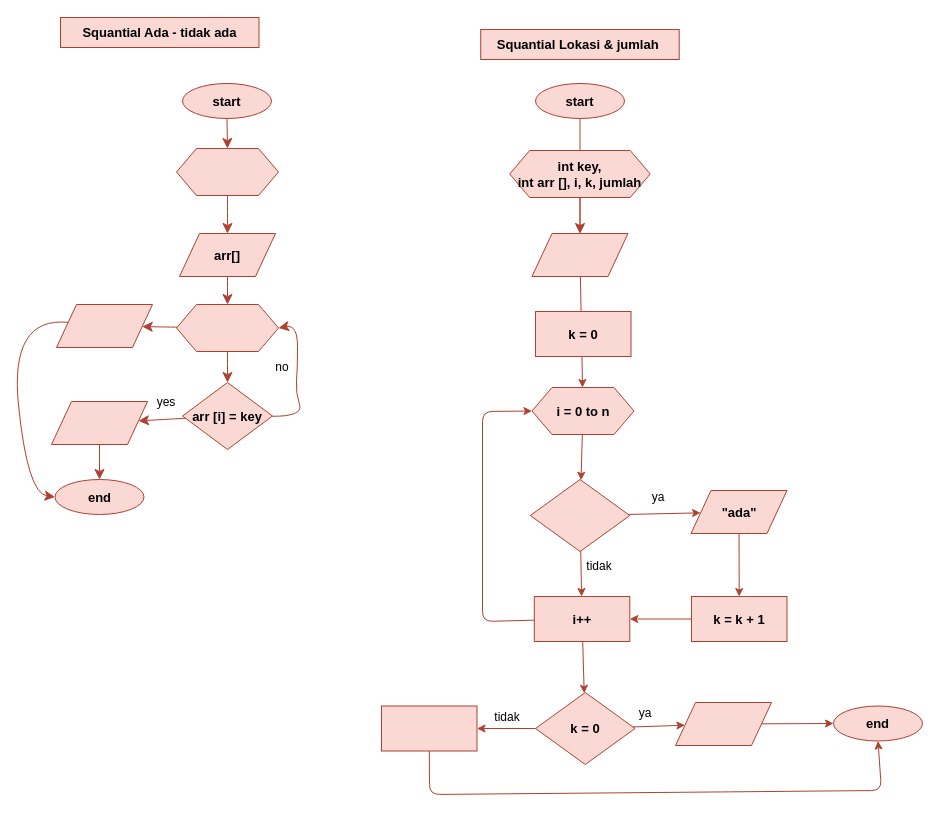
Some shapes in this 941 by 820 pixel diagram are drawn without their labels. Here are the shapes that lost their labels. From the top down, the centre of each, then its label:
(x=227, y=172): int key, int arr [],i
(x=579, y=254): arr[], key
(x=104, y=326): tidak ada
(x=227, y=328): i = 1 to n
(x=99, y=422): ada
(x=579, y=515): arr [] = key
(x=428, y=728): jmlah = k
(x=723, y=724): "tidak ada"
